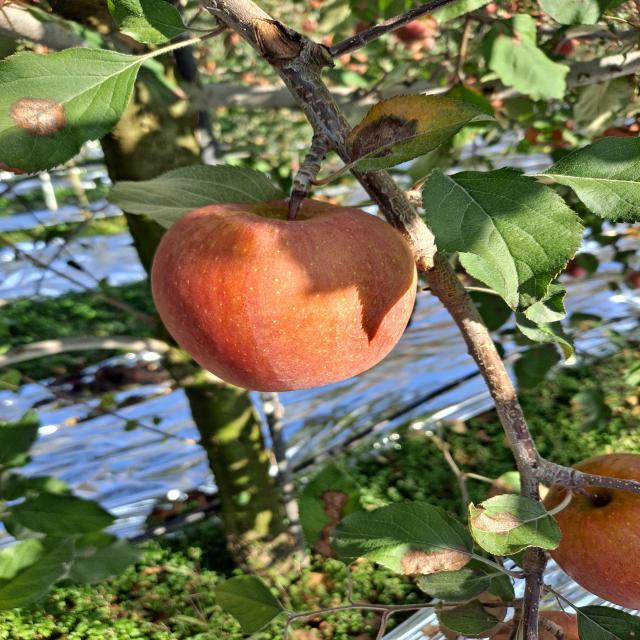fresh: (147, 194, 426, 395)
